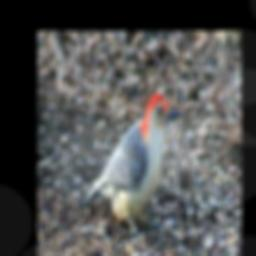Woodpecker: (85, 95, 183, 246)
